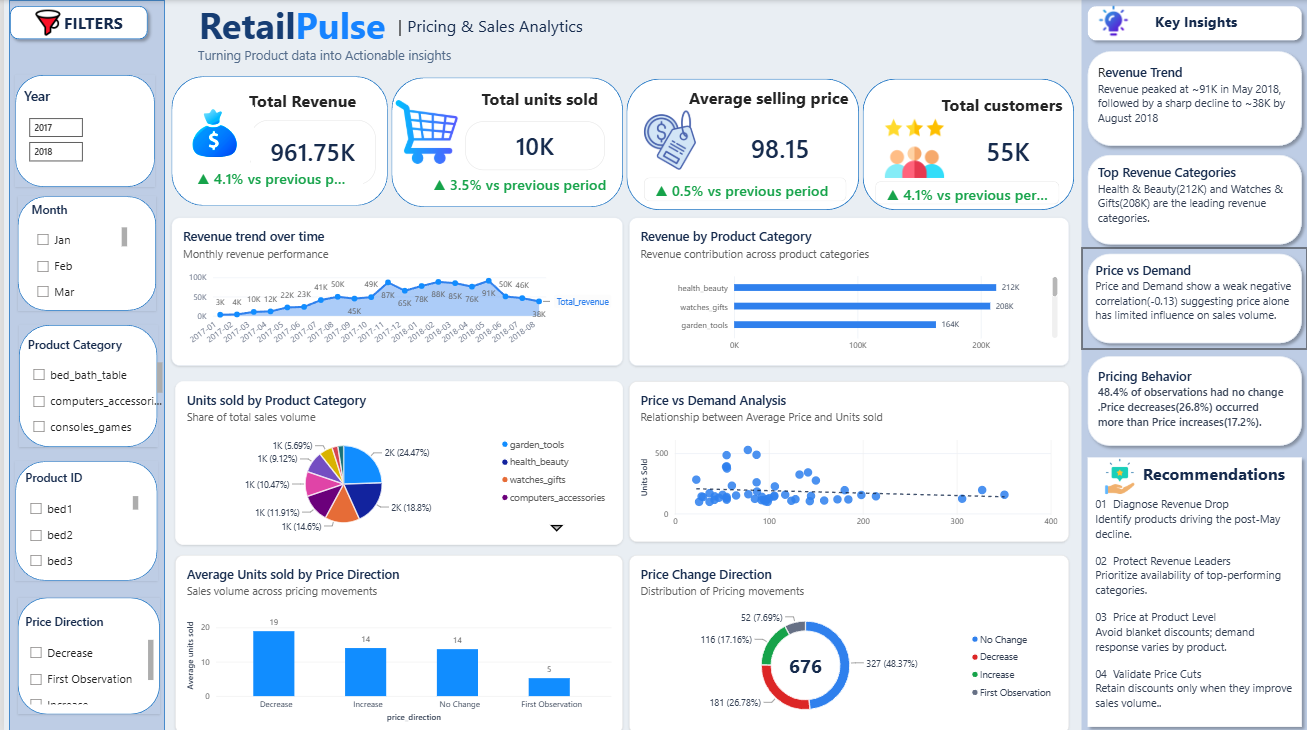

This screenshot's page, from the dashboard's own definition file:
{"tool":"powerbi","page":{"name":"Page 1","canvas":[1920,1080],"ordinal":0},"visuals":[{"type":"shape","box":[7.4,0,229.6,1079.6],"z":0},{"type":"shape","box":[246.3,113,318.5,190.7],"z":0,"group":"g1"},{"type":"group","id":"g1","title":"Group 1","box":[246.3,113,318.5,190.7],"z":0,"group":"g5"},{"type":"shape","box":[569.6,114.8,340.7,190.7],"z":0,"group":"g8"},{"type":"group","id":"g2","title":"Group 1","box":[1264.4,116,311,193.3],"z":0,"group":"g3"},{"type":"shape","box":[1264.4,116,311,193.3],"z":0,"group":"g2"},{"type":"group","id":"g3","title":"Group 3","box":[1264.4,116,311,193.3],"z":0,"group":"g7"},{"type":"group","id":"g4","title":"Group 1","box":[916,116.4,342.3,193.3],"z":0,"group":"g6"},{"type":"shape","box":[916,116.4,342.3,193.3],"z":0,"group":"g4"},{"type":"shape","box":[20.4,288.9,203.7,168.5],"z":0,"group":"g9"},{"type":"shape","box":[20.4,879.6,209.3,172.2],"z":0,"group":"g13"},{"type":"shape","box":[1587,0,333.3,1079.6],"z":1000},{"type":"textbox","box":[1008,126.7,247.4,40.1],"z":1000,"group":"g4"},{"type":"textbox","box":[1379.6,138.2,182.3,37.9],"z":1000,"group":"g2"},{"type":"image","box":[1281.7,174.4,119.6,87.5],"z":1000,"group":"g7"},{"type":"card","fields":{"Values":["retailpulse_mysql.Total_revenue"]},"box":[361.6,177.9,184.5,95.4],"z":1000,"group":"g1"},{"type":"card","fields":{"Values":["retailpulse_mysql.Total_units_sold"]},"box":[678.7,179.2,205.7,71.7],"z":1000,"group":"g8"},{"type":"cardVisual","fields":{"Data":["retailpulse_mysql.Average Selling Price"]},"box":[1067.7,181,151.9,75.9],"z":1000,"group":"g6"},{"type":"cardVisual","fields":{"Data":["retailpulse_mysql.Total_customers"]},"box":[1387.9,187,181.7,67.5],"z":1000,"group":"g3"},{"type":"cardVisual","fields":{"Data":["retailpulse_mysql.Revenue Change Label"]},"box":[267.7,240.6,260.3,47.2],"z":1000,"group":"g5"},{"type":"shape","box":[16.7,679.6,209.3,175.9],"z":1000,"group":"g12"},{"type":"shape","box":[1587,0,333.3,68.5],"z":2000},{"type":"textbox","box":[703.7,129.9,196.2,35.8],"z":2000,"group":"g8"},{"type":"textbox","box":[360.6,133.2,170.4,38.9],"z":2000,"group":"g1"},{"type":"image","box":[936.5,148.9,87,114.8],"z":2000,"group":"g6"},{"type":"cardVisual","fields":{"Data":["retailpulse_mysql.Customers Change Label"]},"box":[1283.5,267.5,271,34.6],"z":2000,"group":"g3"},{"type":"shape","box":[22.2,477.8,203.7,179.6],"z":2000,"group":"g11"},{"type":"image","box":[251.4,128.2,116.3,137.6],"z":3000,"group":"g1"},{"type":"image","box":[568.5,140.3,107.4,109.3],"z":3000,"group":"g8"},{"type":"cardVisual","fields":{"Data":["retailpulse_mysql.ASP Change Label"]},"box":[942.7,262,298.1,35.2],"z":3000,"group":"g6"},{"type":"clusteredBarChart","title":"Revenue by Product Category","fields":{"Category":["retailpulse_mysql.product_category_name"],"Y":["retailpulse_mysql.Total_revenue"]},"box":[920.4,320.4,648.1,218.5],"z":3000},{"type":"cardVisual","fields":{"Data":["retailpulse_mysql.Units Change Label"]},"box":[617,250.2,317,41.5],"z":4000,"group":"g8"},{"type":"lineChart","title":"Revenue trend over time","fields":{"Category":["DateTable.Year-Month"],"Y":["retailpulse_mysql.Total_revenue"]},"box":[246.3,320.4,664.8,218.5],"z":4000},{"type":"group","id":"g5","title":"Group 2","box":[246.3,113,318.5,190.7],"z":5000},{"type":"group","id":"g6","title":"Group 3","box":[916,116.4,342.3,193.3],"z":6000},{"type":"pieChart","title":"Units sold by Product Category","fields":{"Category":["retailpulse_mysql.product_category_name"],"Y":["retailpulse_mysql.Total_units_sold"]},"box":[251.9,561.1,659.3,240.7],"z":7000},{"type":"scatterChart","title":"Price vs Demand Analysis","fields":{"Category":["retailpulse_mysql.product_id"],"X":["Avg(retailpulse_mysql.unit_price)"],"Y":["Sum(retailpulse_mysql.qty)"]},"box":[920.4,561.1,648.1,237],"z":8000},{"type":"donutChart","title":"Price Change Direction","fields":{"Category":["retailpulse_mysql.price_direction"],"Y":["CountNonNull(retailpulse_mysql.price_direction)"]},"box":[920.4,816.7,648.1,263],"z":9000},{"type":"clusteredColumnChart","title":"Average Units sold by Price Direction","fields":{"Category":["retailpulse_mysql.price_direction"],"Y":["DateTable.Average units sold"]},"box":[251.9,816.7,659.3,263],"z":10000},{"type":"group","id":"g7","title":"Group 4","box":[1264.4,116,311,193.3],"z":11000},{"type":"group","id":"g8","title":"Group 5","box":[568.5,114.8,365.5,190.7],"z":12000},{"type":"textbox","box":[287,0,1131.5,109.3],"z":13000},{"type":"textbox","box":[568.5,22.2,314.8,38.9],"z":14000},{"type":"textbox","box":[285.2,68.5,400,40.7],"z":15000},{"type":"slicer","title":"Month","fields":{"Values":["DateTable.Month"]},"box":[40.8,295.8,140.7,151.9],"z":15000,"group":"g9"},{"type":"textbox","box":[1659.3,16.7,190.7,38.9],"z":16000},{"type":"slicer","title":"Product ID","fields":{"Values":["retailpulse_mysql.product_id"]},"box":[32,692.2,166.7,146.3],"z":16000,"group":"g12"},{"type":"image","box":[1611.1,0,46.3,61.1],"z":17000},{"type":"slicer","title":"Price Direction","fields":{"Values":["retailpulse_mysql.price_direction"]},"box":[30.8,904.4,188.9,133.3],"z":17000,"group":"g13"},{"type":"shape","box":[1587,66.7,333.3,157.4],"z":18000},{"type":"slicer","title":"Product Category","fields":{"Values":["retailpulse_mysql.product_category_name"]},"box":[34.8,494.9,198.1,163],"z":18000,"group":"g11"},{"type":"shape","box":[1587,218.5,333.3,150],"z":19000},{"type":"shape","box":[1587,364.8,333.3,150],"z":20000},{"type":"shape","box":[1587,514.8,333.3,150],"z":21000},{"type":"textbox","box":[1611.1,94.4,290.7,116.7],"z":22000},{"type":"textbox","box":[1611.1,240.7,275.9,105.6],"z":23000},{"type":"textbox","box":[1607.4,385.2,294.4,116.7],"z":24000},{"type":"textbox","box":[1611.1,540.7,277.8,107.4],"z":25000},{"type":"shape","box":[1587,664.8,333.3,414.8],"z":26000},{"type":"textbox","box":[1674.1,681.5,213,38.9],"z":27000},{"type":"image","box":[1596.3,672.2,94.4,59.3],"z":28000},{"type":"textbox","box":[1607.4,731.5,294.4,333.3],"z":29000},{"type":"textbox","box":[137,242.6,268.5,72.2],"z":30000},{"type":"group","id":"g9","title":"Group 6","box":[20.4,288.9,203.7,168.5],"z":31000},{"type":"group","id":"g10","title":"Group 7","box":[17,110.9,205.6,164.8],"z":32000},{"type":"group","id":"g11","title":"Group 8","box":[22.2,477.8,210.7,180],"z":33000},{"type":"group","id":"g12","title":"Group 9","box":[16.7,679.6,209.3,175.9],"z":34000},{"type":"group","id":"g13","title":"Group 10","box":[20.4,879.6,209.3,172.2],"z":35000},{"type":"group","id":"g14","title":"Group 11","box":[0,0,220.4,66.7],"z":36000},{"type":"shape","box":[0,0,220.4,66.7],"z":37000,"group":"g14"},{"type":"textbox","box":[88.5,16.7,90.1,38.9],"z":38000,"group":"g14"},{"type":"shape","box":[17,110.9,205.6,164.8],"z":38000,"group":"g10"},{"type":"image","box":[38.6,13,51.5,40.7],"z":39000,"group":"g14"},{"type":"slicer","title":"Year","fields":{"Values":["DateTable.Year"]},"box":[30.8,127.8,160.1,126.4],"z":43000,"group":"g10"}]}

Visuals, with their boxes in screenshot pixels (x1, y1, x2, y2), scaled from the page's 1920x1080 canvas onto the 1307x730 screenshot:
shape: [left=5, top=0, right=161, bottom=729]
shape: [left=168, top=76, right=384, bottom=205]
"Group 1" group: [left=168, top=76, right=384, bottom=205]
shape: [left=388, top=78, right=620, bottom=206]
"Group 1" group: [left=861, top=78, right=1072, bottom=209]
shape: [left=861, top=78, right=1072, bottom=209]
"Group 3" group: [left=861, top=78, right=1072, bottom=209]
"Group 1" group: [left=624, top=79, right=857, bottom=209]
shape: [left=624, top=79, right=857, bottom=209]
shape: [left=14, top=195, right=153, bottom=309]
shape: [left=14, top=595, right=156, bottom=711]
shape: [left=1080, top=0, right=1306, bottom=729]
textbox: [left=686, top=86, right=855, bottom=113]
textbox: [left=939, top=93, right=1063, bottom=119]
image: [left=872, top=118, right=954, bottom=177]
card - retailpulse_mysql.Total_revenue: [left=246, top=120, right=372, bottom=185]
card - retailpulse_mysql.Total_units_sold: [left=462, top=121, right=602, bottom=170]
cardVisual - retailpulse_mysql.Average Selling Price: [left=727, top=122, right=830, bottom=174]
cardVisual - retailpulse_mysql.Total_customers: [left=945, top=126, right=1068, bottom=172]
cardVisual - retailpulse_mysql.Revenue Change Label: [left=182, top=163, right=359, bottom=195]
shape: [left=11, top=459, right=154, bottom=578]
shape: [left=1080, top=0, right=1306, bottom=46]
textbox: [left=479, top=88, right=613, bottom=112]
textbox: [left=245, top=90, right=361, bottom=116]
image: [left=638, top=101, right=697, bottom=178]
cardVisual - retailpulse_mysql.Customers Change Label: [left=874, top=181, right=1058, bottom=204]
shape: [left=15, top=323, right=154, bottom=444]
image: [left=171, top=87, right=250, bottom=180]
image: [left=387, top=95, right=460, bottom=169]
cardVisual - retailpulse_mysql.ASP Change Label: [left=642, top=177, right=845, bottom=201]
"Revenue by Product Category" clusteredBarChart: [left=627, top=217, right=1068, bottom=364]
cardVisual - retailpulse_mysql.Units Change Label: [left=420, top=169, right=636, bottom=197]
"Revenue trend over time" lineChart: [left=168, top=217, right=620, bottom=364]
"Group 2" group: [left=168, top=76, right=384, bottom=205]
"Group 3" group: [left=624, top=79, right=857, bottom=209]
"Units sold by Product Category" pieChart: [left=171, top=379, right=620, bottom=542]
"Price vs Demand Analysis" scatterChart: [left=627, top=379, right=1068, bottom=539]
"Price Change Direction" donutChart: [left=627, top=552, right=1068, bottom=729]
"Average Units sold by Price Direction" clusteredColumnChart: [left=171, top=552, right=620, bottom=729]
"Group 4" group: [left=861, top=78, right=1072, bottom=209]
"Group 5" group: [left=387, top=78, right=636, bottom=206]
textbox: [left=195, top=0, right=966, bottom=74]
textbox: [left=387, top=15, right=601, bottom=41]
textbox: [left=194, top=46, right=466, bottom=74]
"Month" slicer: [left=28, top=200, right=124, bottom=303]
textbox: [left=1130, top=11, right=1259, bottom=38]
"Product ID" slicer: [left=22, top=468, right=135, bottom=567]
image: [left=1097, top=0, right=1128, bottom=41]
"Price Direction" slicer: [left=21, top=611, right=150, bottom=701]
shape: [left=1080, top=45, right=1306, bottom=151]
"Product Category" slicer: [left=24, top=335, right=159, bottom=445]
shape: [left=1080, top=148, right=1306, bottom=249]
shape: [left=1080, top=247, right=1306, bottom=348]
shape: [left=1080, top=348, right=1306, bottom=449]
textbox: [left=1097, top=64, right=1295, bottom=143]
textbox: [left=1097, top=163, right=1285, bottom=234]
textbox: [left=1094, top=260, right=1295, bottom=339]
textbox: [left=1097, top=365, right=1286, bottom=438]
shape: [left=1080, top=449, right=1306, bottom=729]
textbox: [left=1140, top=461, right=1285, bottom=487]
image: [left=1087, top=454, right=1151, bottom=494]
textbox: [left=1094, top=494, right=1295, bottom=720]
textbox: [left=93, top=164, right=276, bottom=213]
"Group 6" group: [left=14, top=195, right=153, bottom=309]
"Group 7" group: [left=12, top=75, right=152, bottom=186]
"Group 8" group: [left=15, top=323, right=159, bottom=445]
"Group 9" group: [left=11, top=459, right=154, bottom=578]
"Group 10" group: [left=14, top=595, right=156, bottom=711]
"Group 11" group: [left=0, top=0, right=150, bottom=45]
shape: [left=0, top=0, right=150, bottom=45]
textbox: [left=60, top=11, right=122, bottom=38]
shape: [left=12, top=75, right=152, bottom=186]
image: [left=26, top=9, right=61, bottom=36]
"Year" slicer: [left=21, top=86, right=130, bottom=172]
